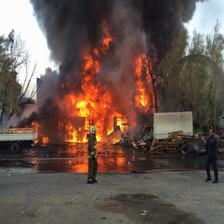fire: (30, 32, 169, 147)
